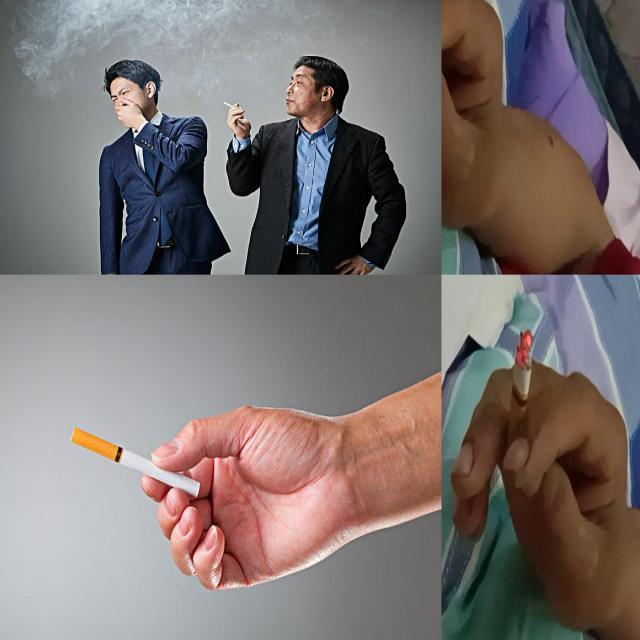smoking: (68, 425, 201, 499), (504, 327, 536, 461), (220, 100, 238, 111)
